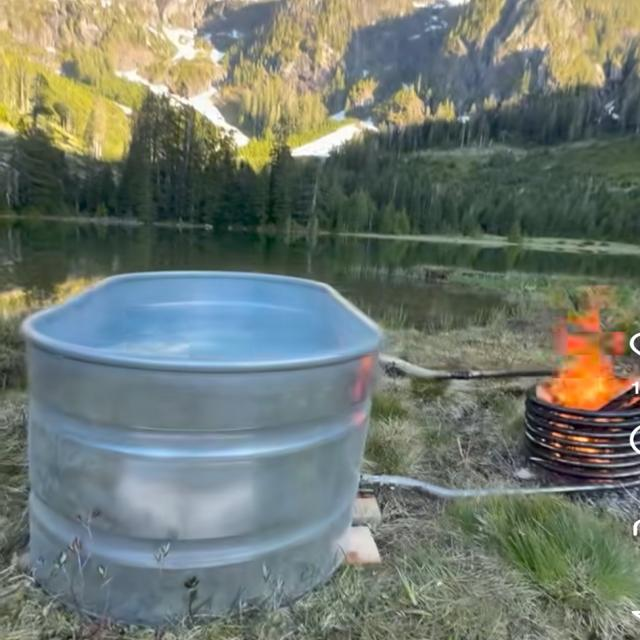fire: (547, 305, 638, 411)
